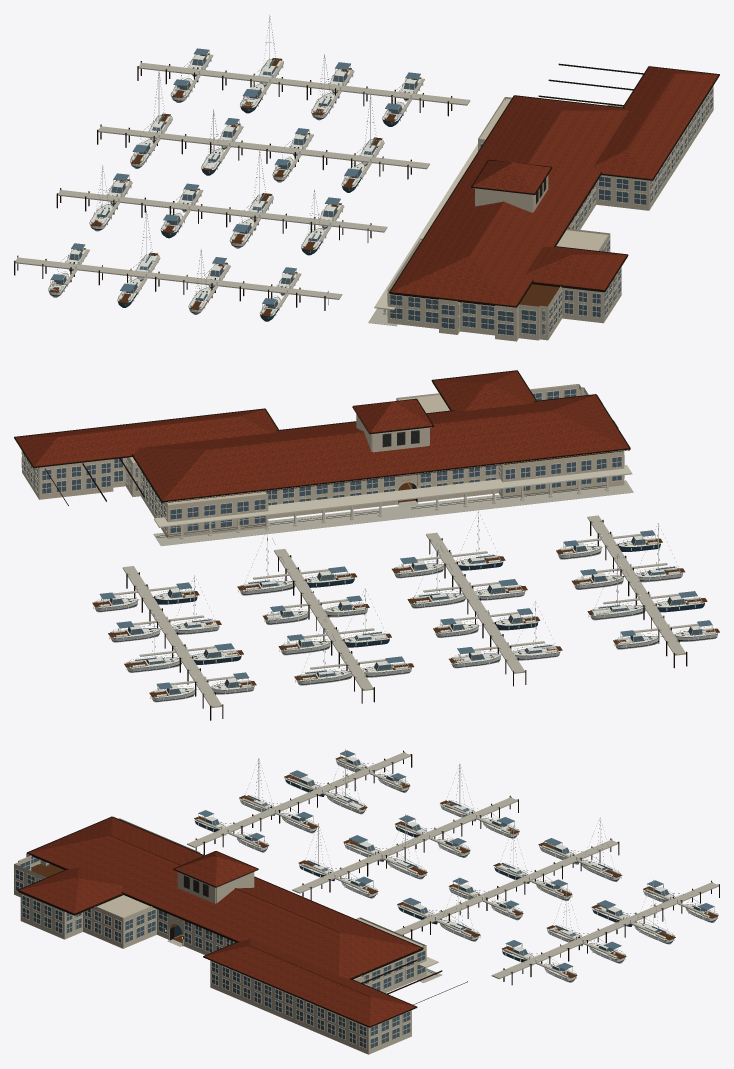
Rendered from yacht-club.glb.
3 views of the same model, one above another, from view 1: azimuth 30°, elevation 25°; view 2: azimuth 150°, elevation 25°; view 3: azimuth 270°, elevation 25° (orthographic). The views are drawn at different scales.
Visible parts, largest first — view 1: DYC exterior DYC terracotta tiles, DYC marina DYC terrace limestone, DYC exterior DYC warm ivory stucco, DYC moored boats DYC yacht fiberglass, DYC exterior DYC limestone trim, DYC exterior DYC blue grey window glass, DYC exterior DYC dark oak, DYC moored boats DYC marine canvas, DYC moored boats DYC blue grey window glass, DYC marina DYC dark oak, DYC moored boats DYC oak floor, DYC moored boats DYC dark iron (+5 smaller); view 2: DYC exterior DYC terracotta tiles, DYC moored boats DYC yacht fiberglass, DYC exterior DYC warm ivory stucco, DYC exterior DYC limestone trim, DYC marina DYC terrace limestone, DYC exterior DYC blue grey window glass, DYC exterior DYC terrace limestone, DYC moored boats DYC navy hull, DYC exterior DYC dark oak, DYC moored boats DYC dark iron, DYC moored boats DYC blue grey window glass, DYC moored boats DYC marine canvas (+6 smaller); view 3: DYC exterior DYC terracotta tiles, DYC marina DYC terrace limestone, DYC moored boats DYC yacht fiberglass, DYC exterior DYC warm ivory stucco, DYC exterior DYC blue grey window glass, DYC exterior DYC limestone trim, DYC exterior DYC dark oak, DYC moored boats DYC marine canvas, DYC moored boats DYC dark iron, DYC moored boats DYC oak floor, DYC marina DYC dark oak, DYC moored boats DYC blue grey window glass (+4 smaller).
Part boxes in pixels (x1,y1,x2,y2): DYC exterior DYC terracotta tiles: [390, 67, 718, 305]; DYC marina DYC terrace limestone: [14, 54, 470, 309]; DYC exterior DYC warm ivory stucco: [387, 87, 713, 341]; DYC moored boats DYC yacht fiberglass: [48, 14, 423, 315]; DYC exterior DYC limestone trim: [374, 86, 713, 336]; DYC exterior DYC blue grey window glass: [390, 87, 712, 335]; DYC exterior DYC dark oak: [389, 66, 719, 307]; DYC moored boats DYC marine canvas: [50, 48, 420, 304]; DYC moored boats DYC blue grey window glass: [54, 56, 417, 308]; DYC marina DYC dark oak: [14, 61, 452, 310]; DYC moored boats DYC oak floor: [50, 53, 421, 316]; DYC moored boats DYC dark iron: [48, 16, 409, 315]; DYC exterior DYC terracotta tiles: [15, 371, 628, 500]; DYC moored boats DYC yacht fiberglass: [94, 511, 717, 702]; DYC exterior DYC warm ivory stucco: [22, 384, 624, 538]; DYC exterior DYC limestone trim: [21, 384, 632, 539]; DYC marina DYC terrace limestone: [113, 515, 698, 707]; DYC exterior DYC blue grey window glass: [22, 389, 621, 532]; DYC exterior DYC terrace limestone: [153, 480, 633, 546]; DYC moored boats DYC navy hull: [95, 544, 716, 701]; DYC exterior DYC dark oak: [14, 370, 630, 503]; DYC moored boats DYC dark iron: [95, 512, 717, 698]; DYC moored boats DYC blue grey window glass: [110, 537, 702, 694]; DYC moored boats DYC marine canvas: [99, 530, 712, 689]; DYC exterior DYC terracotta tiles: [19, 817, 421, 1026]; DYC marina DYC terrace limestone: [187, 752, 718, 979]; DYC moored boats DYC yacht fiberglass: [195, 749, 717, 982]; DYC exterior DYC warm ivory stucco: [14, 818, 426, 1054]; DYC exterior DYC blue grey window glass: [15, 856, 424, 1048]; DYC exterior DYC limestone trim: [14, 818, 438, 1049]; DYC exterior DYC dark oak: [17, 816, 423, 1027]; DYC moored boats DYC marine canvas: [198, 750, 714, 969]; DYC moored boats DYC dark iron: [194, 751, 718, 978]; DYC moored boats DYC oak floor: [194, 756, 718, 978]; DYC marina DYC dark oak: [195, 750, 719, 985]; DYC moored boats DYC blue grey window glass: [205, 759, 707, 971].
Bounding box in the file's own units: 163 × 20.89 × 159.
Materials: 15 (5 with a texture image).
